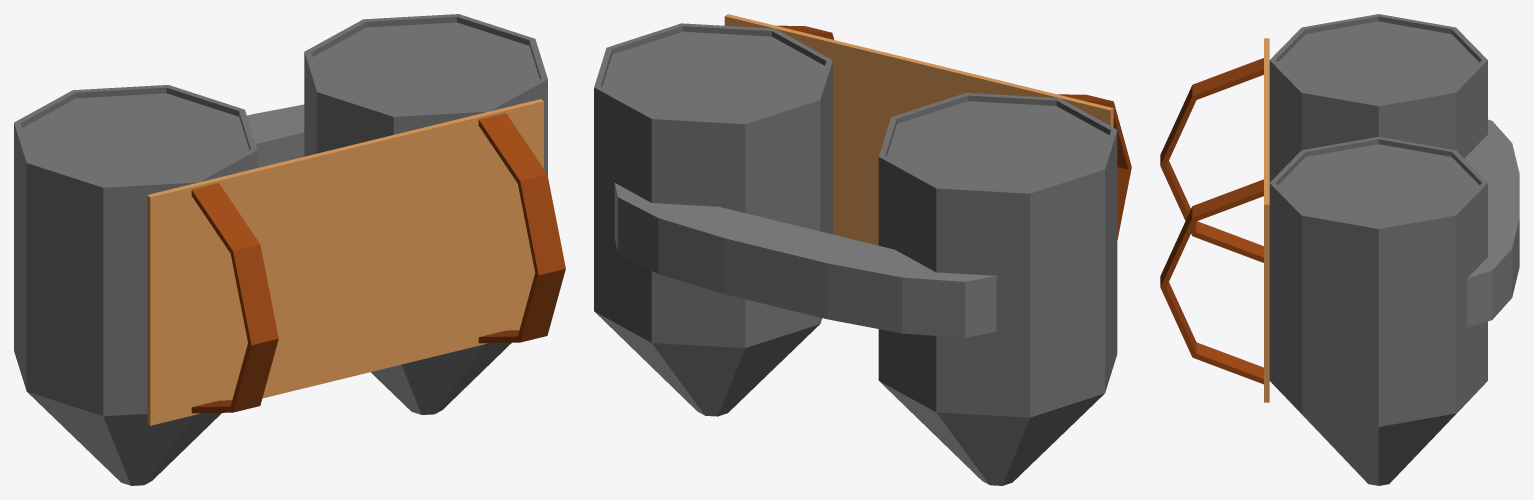
File: JetPackV2.glb
3 views of the same model, side by side, from view 1: azimuth 30°, elevation 25°; view 2: azimuth 150°, elevation 25°; view 3: azimuth 270°, elevation 25° (orthographic). The views are drawn at different scales.
Visible parts, largest first — view 1: Jetpack; view 2: Jetpack; view 3: Jetpack.
Part boxes in pixels (left/top/right/bottom): Jetpack: left=14, top=14, right=565, bottom=485; Jetpack: left=594, top=14, right=1131, bottom=485; Jetpack: left=1160, top=14, right=1519, bottom=485.
Size of the model in its own units: 4.66 by 3 by 3.29.
